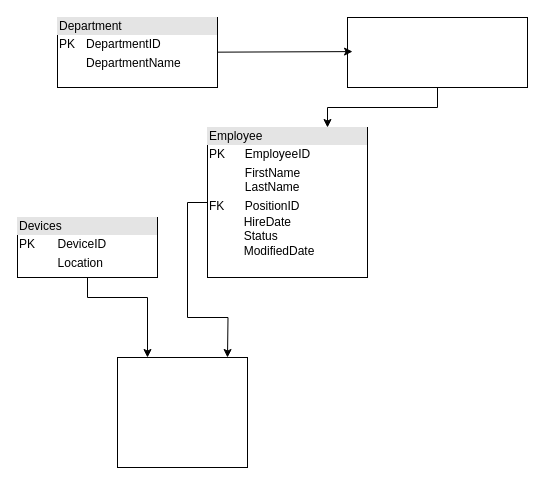
Image size: 545x485. Some labels were removed from this diagram. Each missing label, with the centre of its shape:
Position PK PositionID PositionName FK DepartmentID: the point at 437,52
WorkLogs PK WorkLogID FK EmployeeID FK DeviceID LogType ModifiedDate: the point at 182,412
